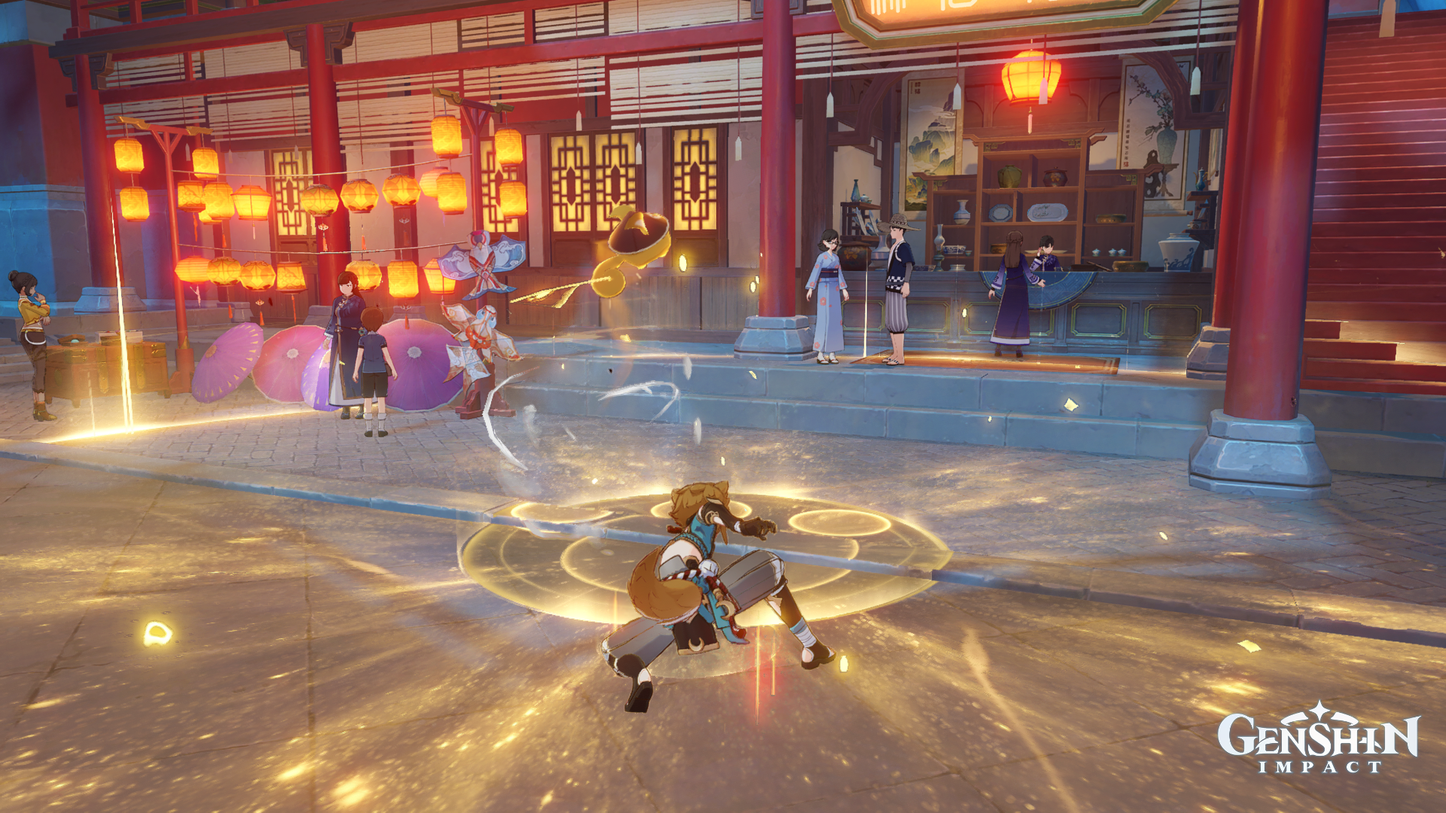Human: (590, 481, 834, 712), (7, 272, 59, 421), (989, 229, 1039, 355), (326, 272, 366, 418), (880, 212, 914, 370), (355, 308, 396, 437), (809, 228, 846, 366), (1031, 233, 1063, 270)
